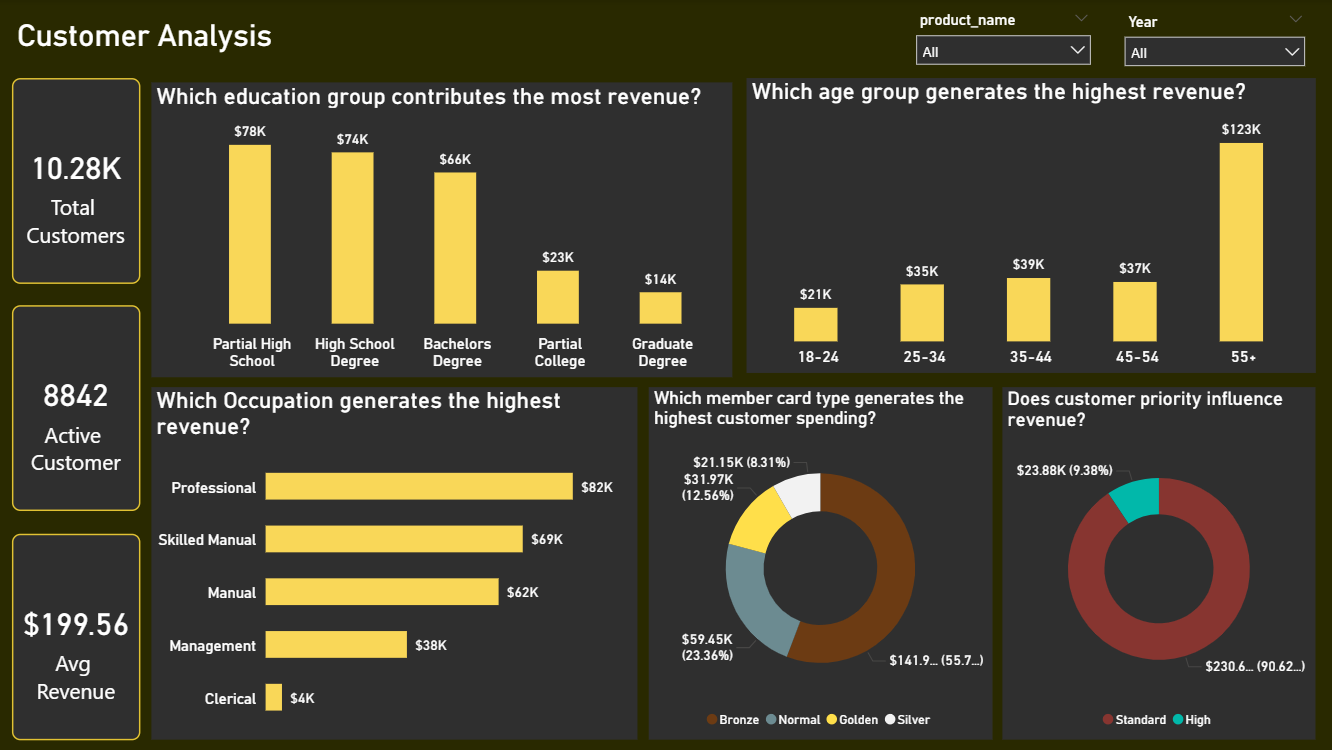

The dashboard page shown, as its layout file describes it:
{"tool":"powerbi","page":{"name":"Customer Analysis","canvas":[1280,720],"ordinal":2},"visuals":[{"type":"barChart","title":"Which Occupation generates the highest revenue?","fields":{"Category":["Customers.occupation"],"Y":["Measure.Total Revenue"]},"box":[145.2,369.9,474,335.7],"z":0},{"type":"clusteredColumnChart","title":"Which age group generates the highest revenue?","fields":{"Category":["Customers.Age Group"],"Y":["Measure.Total Revenue"]},"box":[712.4,75.4,553.5,280.9],"z":1000},{"type":"donutChart","title":"Which member card type generates the highest customer spending?","fields":{"Category":["Customers.member_card"],"Y":["Measure.Total Revenue"]},"box":[630.2,369.9,327.4,335.7],"z":2000},{"type":"clusteredColumnChart","title":"Which education group contributes the most revenue?","fields":{"Y":["Measure.Total Revenue"],"Category":["Customers.education"]},"box":[145.2,79.5,553.5,280.9],"z":3000},{"type":"card","fields":{"Values":["CountNonNull(Customers.customer_id)"]},"box":[12.8,75.2,122.1,195.9],"z":4000},{"type":"card","fields":{"Values":["Measure.Active Customer"]},"box":[12.8,292.5,122.1,195.9],"z":5000},{"type":"card","fields":{"Values":["Measure.Avg Revenue per Active Customer"]},"box":[12.9,509.1,122.4,196.5],"z":6000},{"type":"donutChart","title":"Does customer priority influence revenue?","fields":{"Y":["Measure.Total Revenue"],"Category":["Customers.Priority"]},"box":[967.3,369.9,298.7,335.7],"z":7000},{"type":"textbox","box":[12.3,12.3,301.4,67.1],"z":8000},{"type":"slicer","fields":{"Values":["Calender.Year"]},"box":[1063.4,8.5,191.7,56.8],"z":9000},{"type":"slicer","fields":{"Values":["Products.product_name"]},"box":[864.6,7.1,186,59.6],"z":10000}]}

Visuals, with their boxes in screenshot pixels (x1, y1, x2, y2), scaled from the page's 1280x720 canvas onto the 1332x750 screenshot:
"Which Occupation generates the highest revenue?" barChart: (151, 385, 644, 735)
"Which age group generates the highest revenue?" clusteredColumnChart: (741, 79, 1317, 371)
"Which member card type generates the highest customer spending?" donutChart: (656, 385, 997, 735)
"Which education group contributes the most revenue?" clusteredColumnChart: (151, 83, 727, 375)
card - CountNonNull(Customers.customer_id): (13, 78, 140, 282)
card - Measure.Active Customer: (13, 305, 140, 509)
card - Measure.Avg Revenue per Active Customer: (13, 530, 141, 735)
"Does customer priority influence revenue?" donutChart: (1007, 385, 1317, 735)
textbox: (13, 13, 326, 83)
slicer - Calender.Year: (1107, 9, 1306, 68)
slicer - Products.product_name: (900, 7, 1093, 69)
